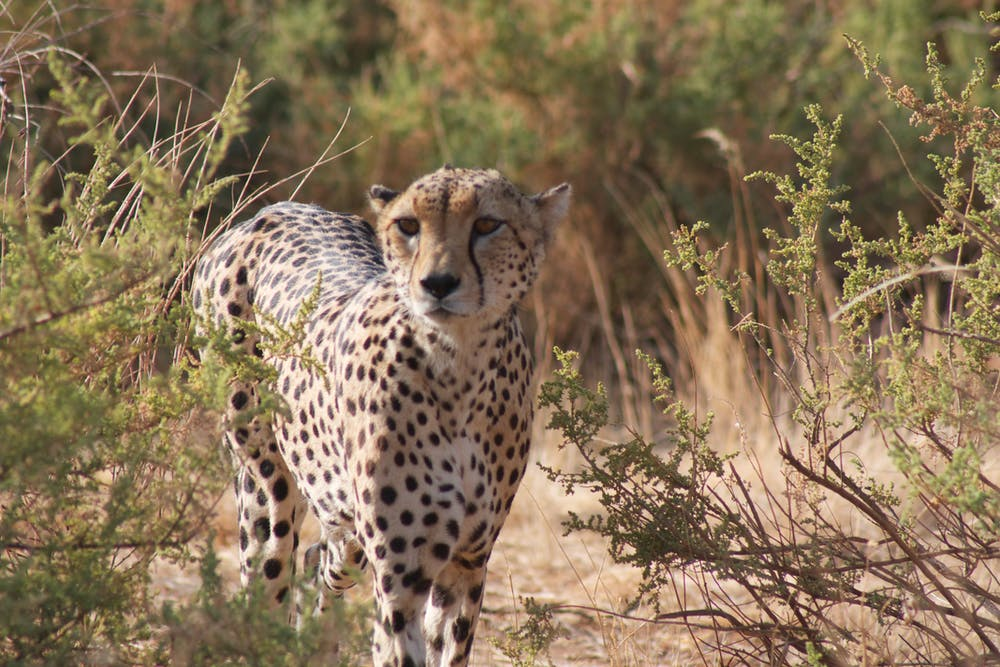cheetah: (350, 153, 589, 345)
